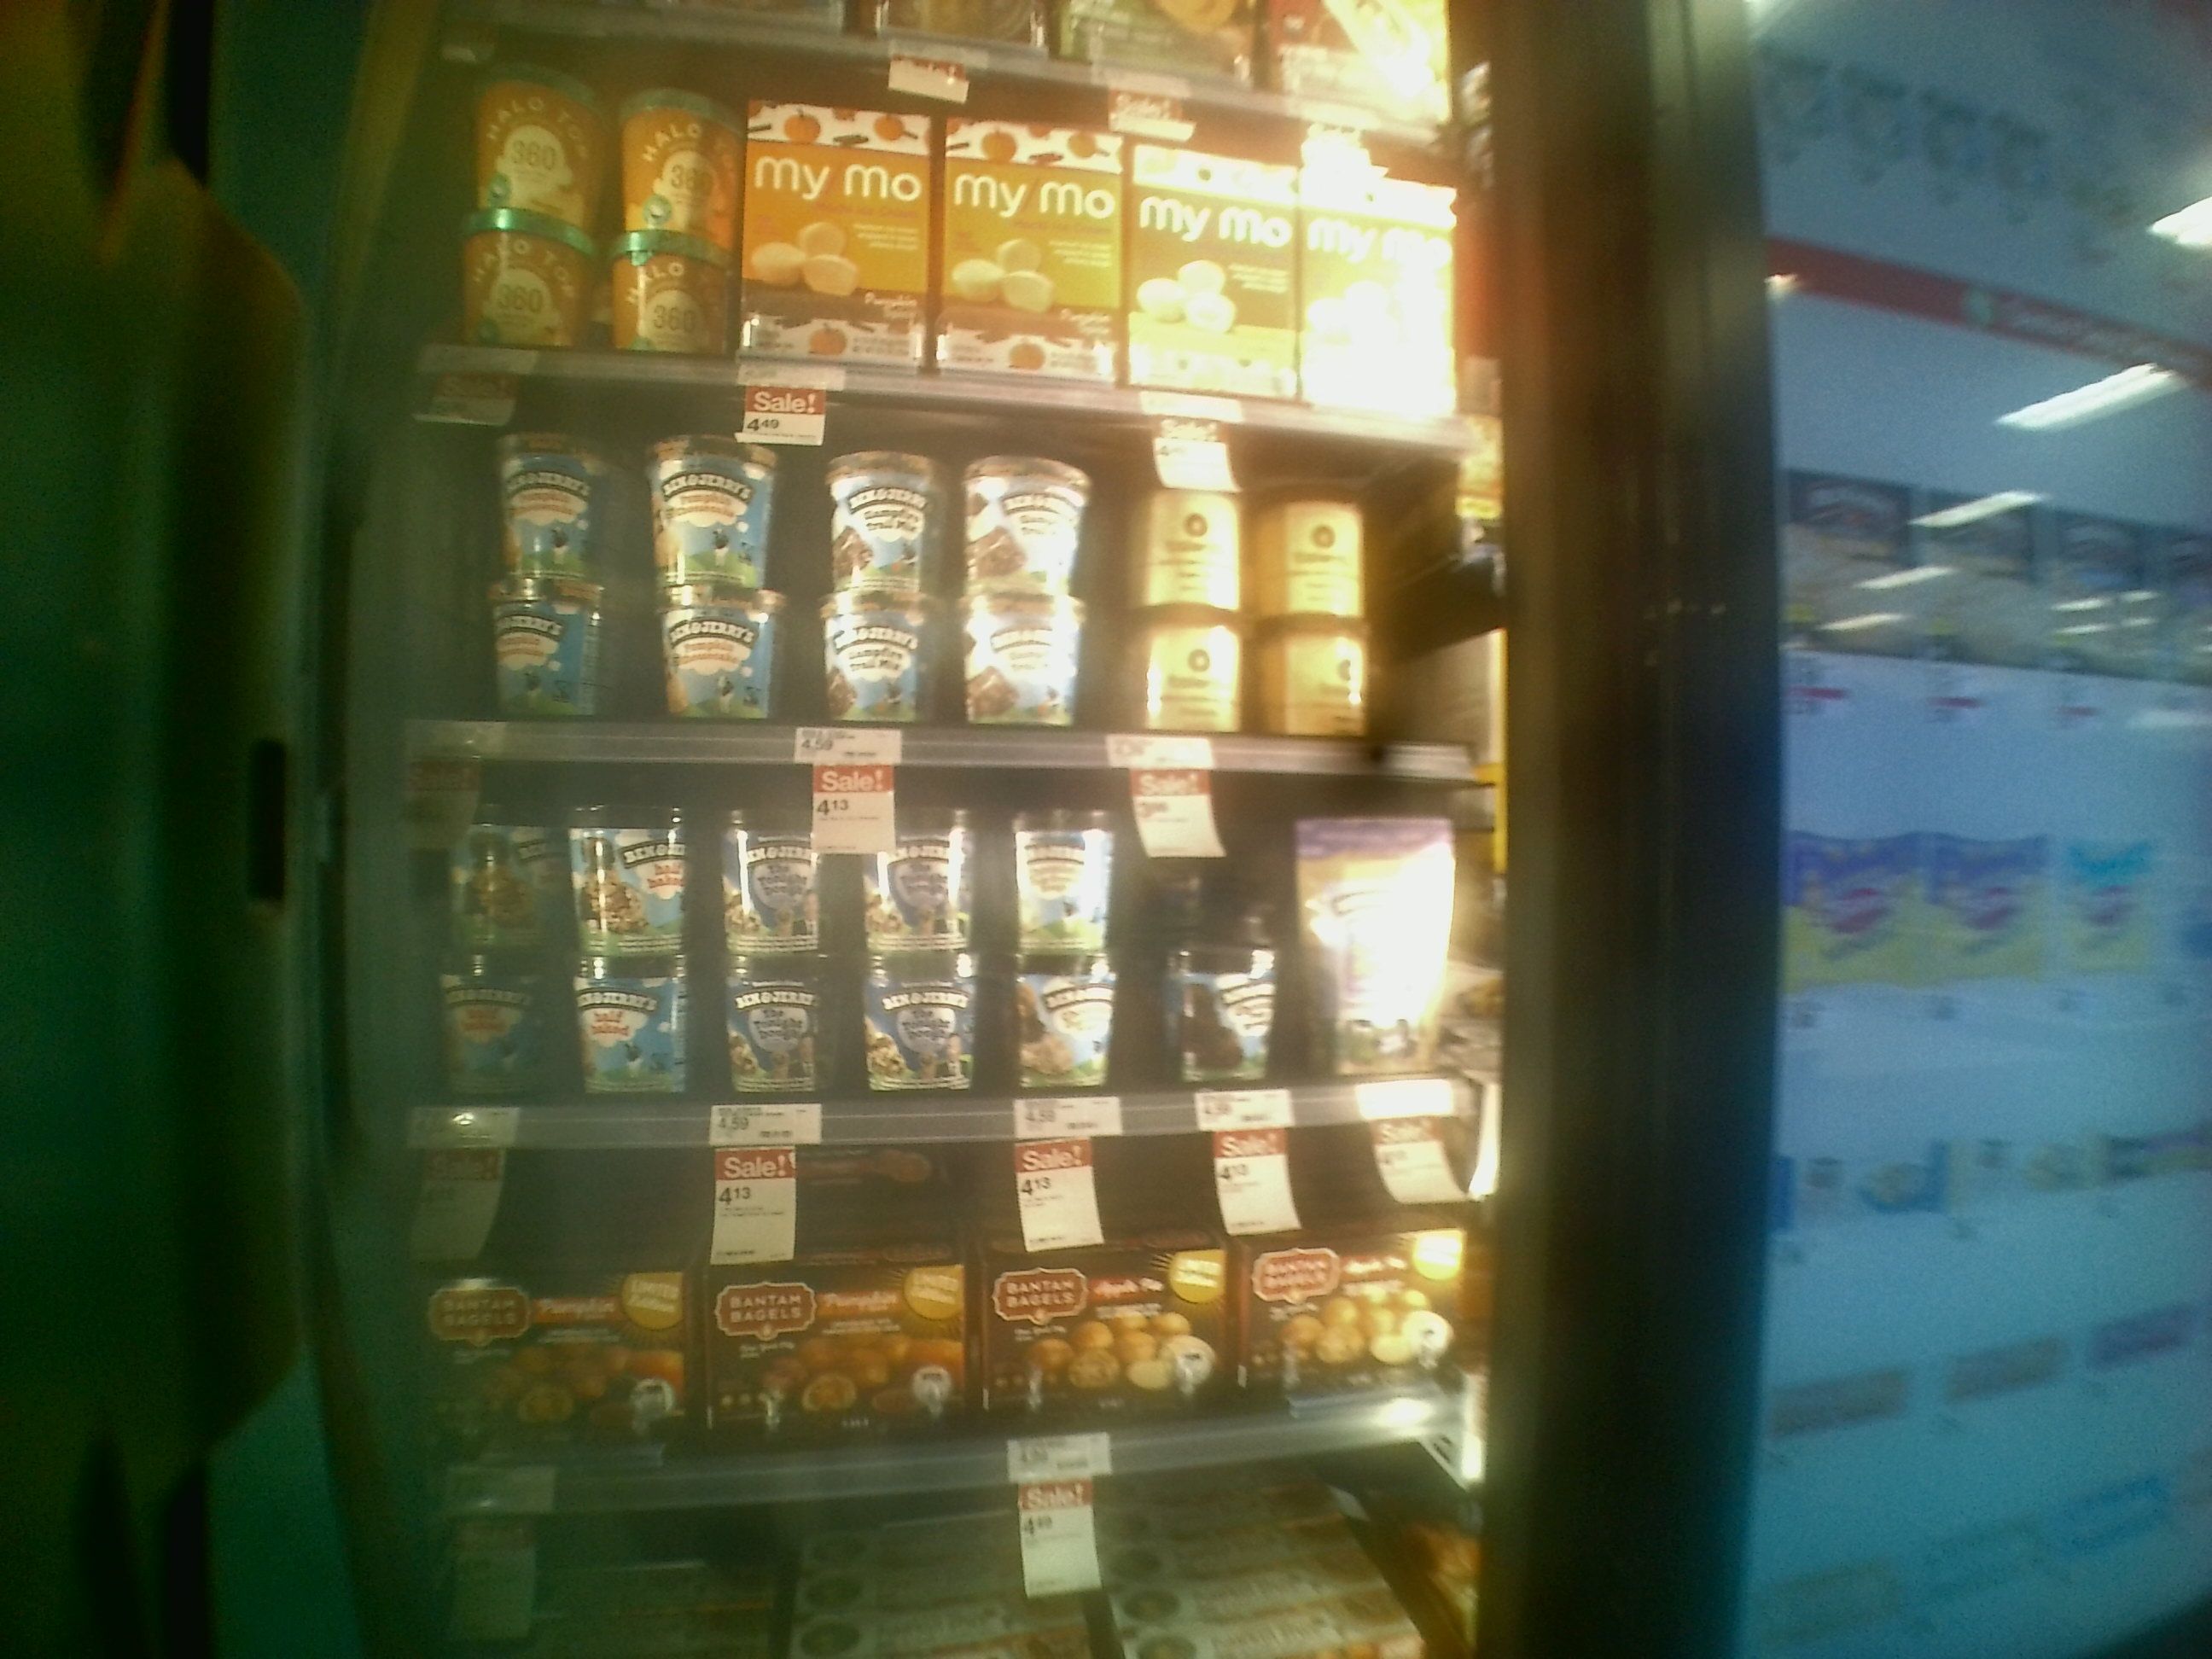shelf: (376, 364, 1517, 788), (350, 1112, 1540, 1500), (369, 749, 1519, 1129)
